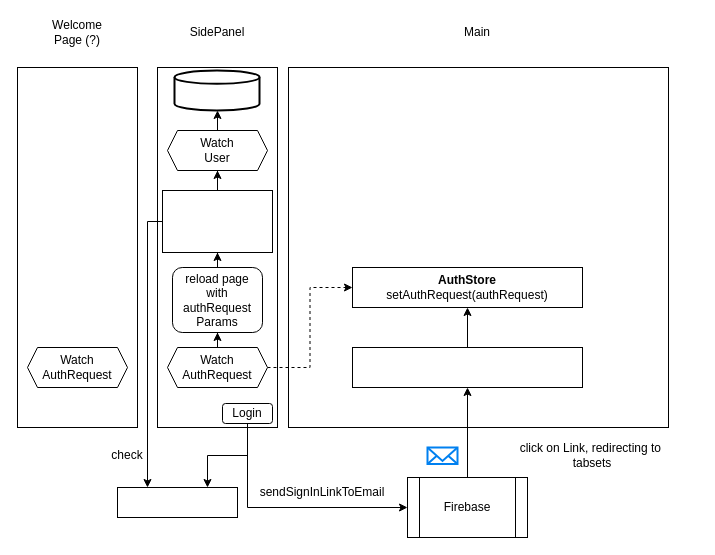
The diagram is 715 pixels wide and 555 high, and some of its shapes have lost their labels. Here are the shapes that lost their labels. From the top down, the centre of each, then its label:
pixel 216 90: Account
pixel 217 221: App.vue is SignIn Link? authStore: save User
pixel 467 367: ChromeListener checkOriginForEmailLink
pixel 177 502: remember email
